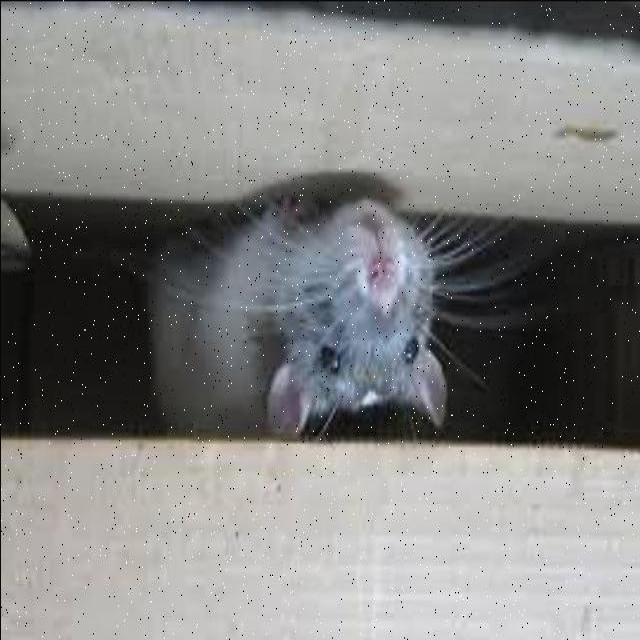rat: (140, 193, 450, 435)
